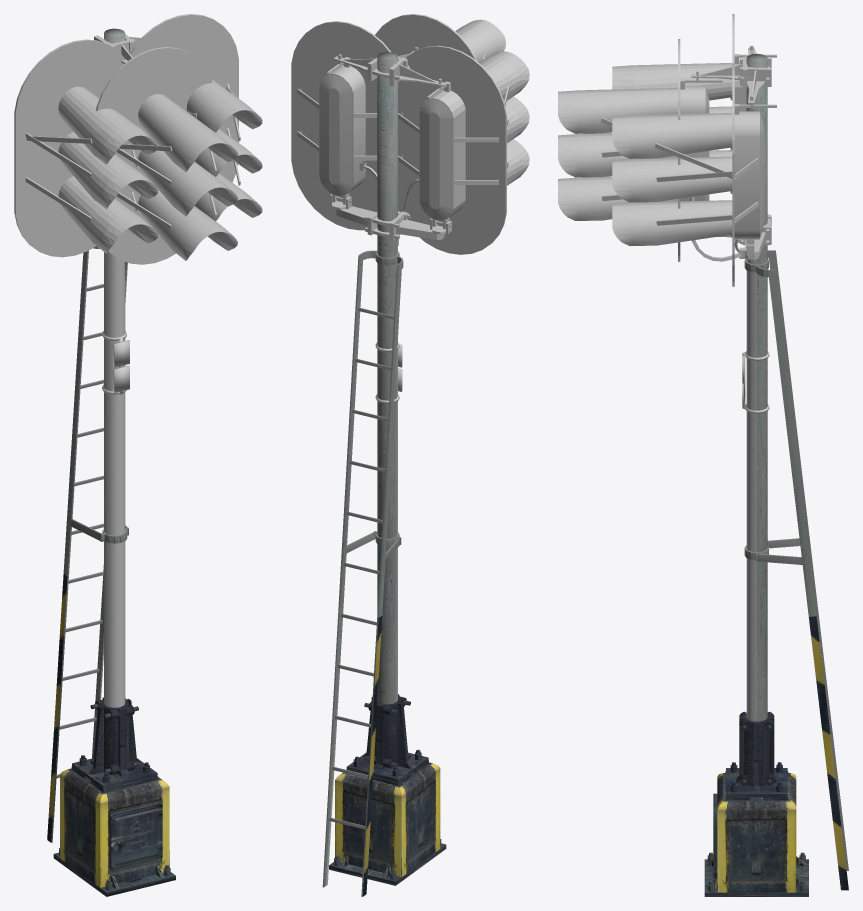
Rendered from sssr_vl_nove.obj.
The picture shows the model from 3 angles, left to right: view 1: azimuth 30°, elevation 25°; view 2: azimuth 150°, elevation 25°; view 3: azimuth 270°, elevation 25°; orthographic projection. The views are drawn at different scales.
Parts seen in each view (by area): view 1: stit_3l, stoz_vl_zaklad, stit_3, stit_3r, stoz_vl_nater, stoz_vl_stozar, stoz_vl_cisla; view 2: stit_3l, stoz_vl_zaklad, stit_3r, stoz_vl_stozar, stit_3, stoz_vl_nater; view 3: stoz_vl_zaklad, stit_3r, stit_3, stoz_vl_stozar, stoz_vl_nater, stit_3l.
Part boxes in pixels (left/top/right/bottom): stit_3l: left=14, top=35, right=157, bottom=257; stoz_vl_zaklad: left=47, top=246, right=175, bottom=896; stit_3: left=94, top=38, right=237, bottom=264; stit_3r: left=125, top=14, right=262, bottom=221; stoz_vl_nater: left=105, top=251, right=125, bottom=707; stoz_vl_stozar: left=104, top=28, right=125, bottom=704; stoz_vl_cisla: left=102, top=331, right=129, bottom=394; stit_3l: left=374, top=45, right=529, bottom=254; stoz_vl_zaklad: left=322, top=250, right=446, bottom=896; stit_3r: left=291, top=21, right=405, bottom=235; stoz_vl_stozar: left=377, top=52, right=397, bottom=704; stit_3: left=375, top=14, right=505, bottom=245; stoz_vl_nater: left=396, top=240, right=397, bottom=701; stoz_vl_zaklad: left=704, top=250, right=848, bottom=896; stit_3r: left=612, top=64, right=776, bottom=286; stit_3: left=558, top=39, right=770, bottom=261; stoz_vl_stozar: left=746, top=53, right=767, bottom=721; stoz_vl_nater: left=746, top=259, right=756, bottom=721; stit_3l: left=612, top=14, right=776, bottom=257.
Size of the model in its own units: 0.9719 by 3.53 by 1.12.
